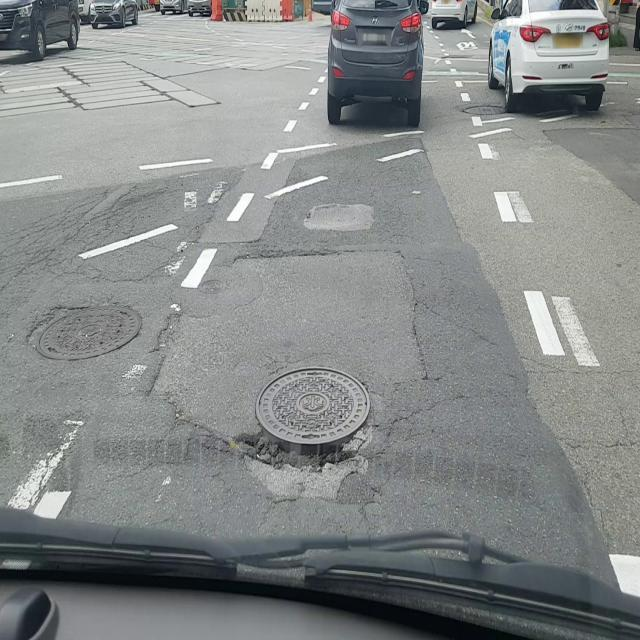Buraco: (228, 414, 382, 476)
